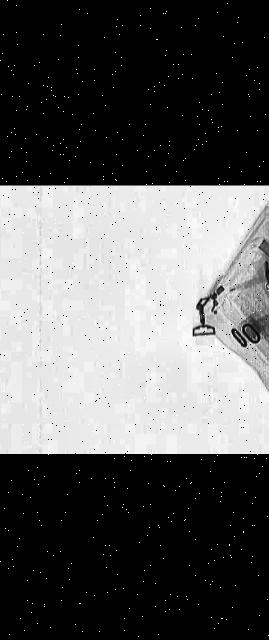Pliers: (252, 261, 269, 345)
